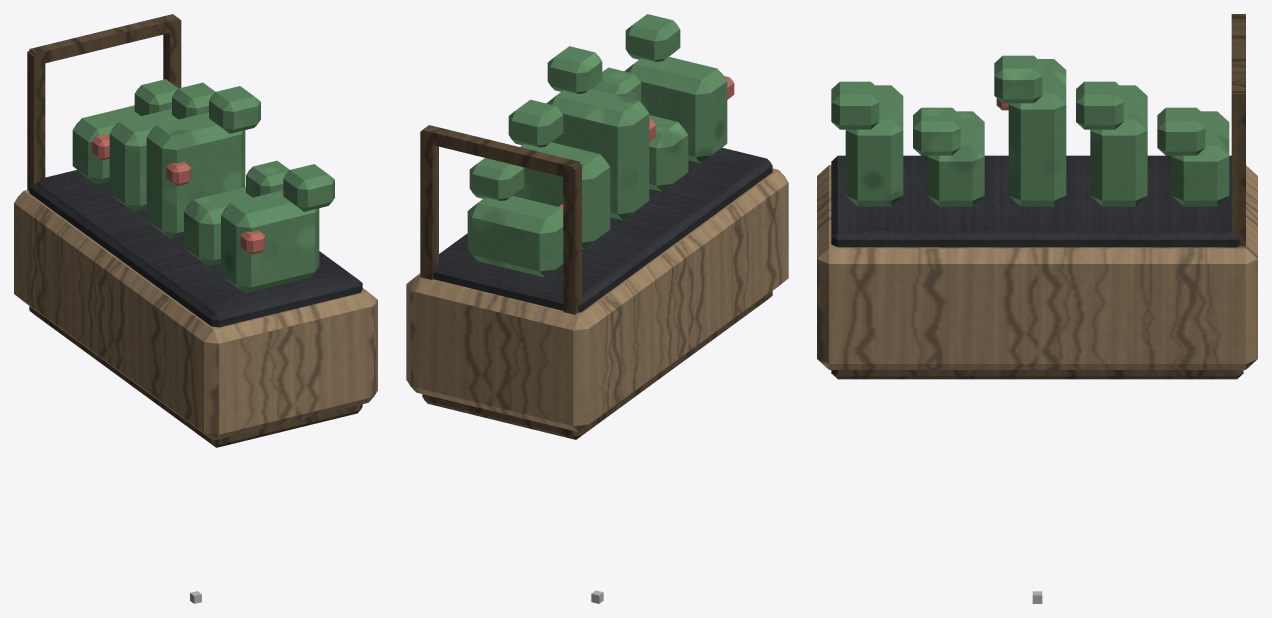
The model's file is rv_furn_plant.gltf.
3 renders of one model, left to right at view 1: azimuth 30°, elevation 25°; view 2: azimuth 150°, elevation 25°; view 3: azimuth 270°, elevation 25°, orthographic. The views are drawn at different scales.
Parts seen in each view (by area): view 1: RV_Furn_Plant; view 2: RV_Furn_Plant; view 3: RV_Furn_Plant.
Part boxes in pixels (x1,y1,x2,y2): RV_Furn_Plant: (14, 14, 377, 603); RV_Furn_Plant: (406, 14, 788, 603); RV_Furn_Plant: (817, 14, 1257, 603).
Bounding box in the file's own units: 0.46 × 1.28 × 0.92.
6 materials, 5 textured.
